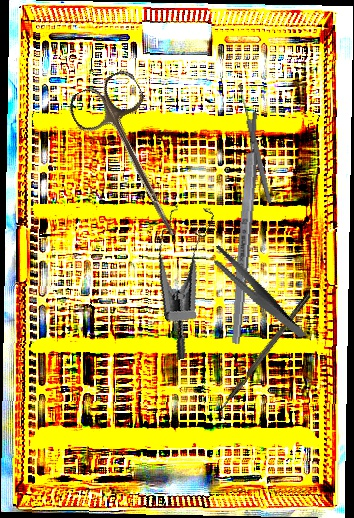Chopper: (213, 293, 318, 420)
Dressing Forceps: (207, 229, 307, 357)
Iris Scissors: (63, 66, 209, 251)
Scalpel Handle: (228, 111, 263, 345)
Speculum: (135, 194, 250, 361)
Surgical Spoon: (236, 83, 274, 204)
